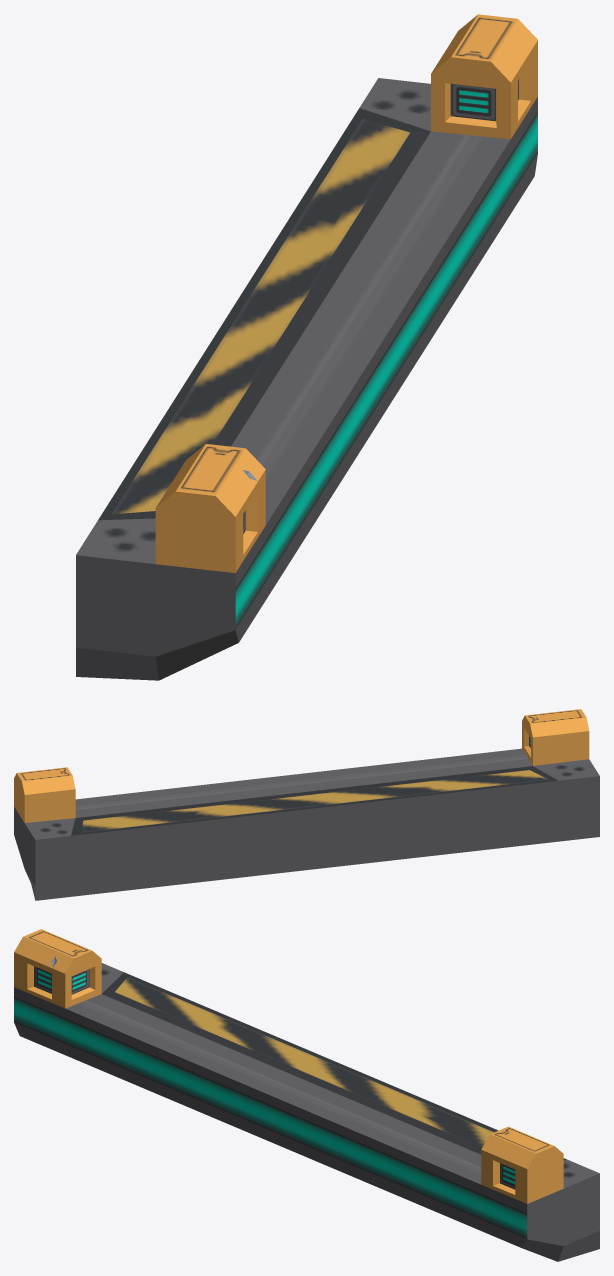
Rendered from SM_Bld_Railing_45_02.fbx.
3 views of the same model, one above another, from view 1: azimuth 30°, elevation 25°; view 2: azimuth 150°, elevation 25°; view 3: azimuth 270°, elevation 25° (orthographic). The views are drawn at different scales.
Parts seen in each view (by area): view 1: SM_Bld_Railing_45_02; view 2: SM_Bld_Railing_45_02; view 3: SM_Bld_Railing_45_02.
Part boxes in pixels (x1=…): SM_Bld_Railing_45_02: x1=76, y1=14, x2=537, y2=680; SM_Bld_Railing_45_02: x1=14, y1=709, x2=599, y2=900; SM_Bld_Railing_45_02: x1=14, y1=929, x2=599, y2=1261.
Bounding box in the file's own units: 285 × 65.64 × 285.
